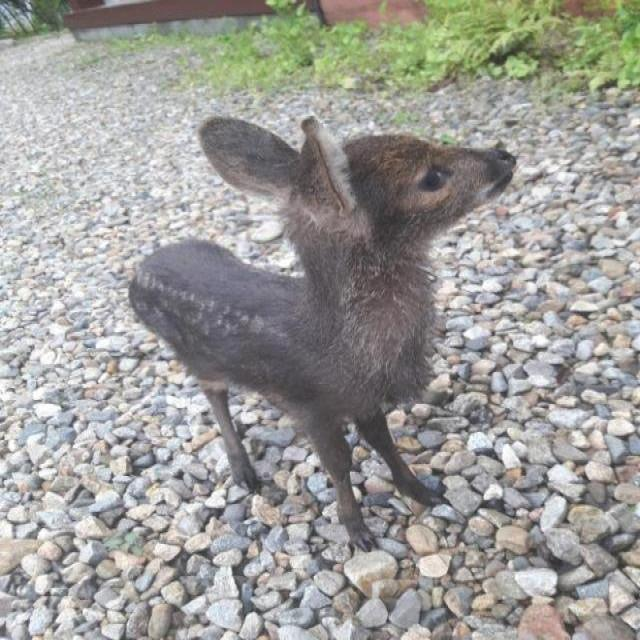deer: (119, 94, 546, 554)
